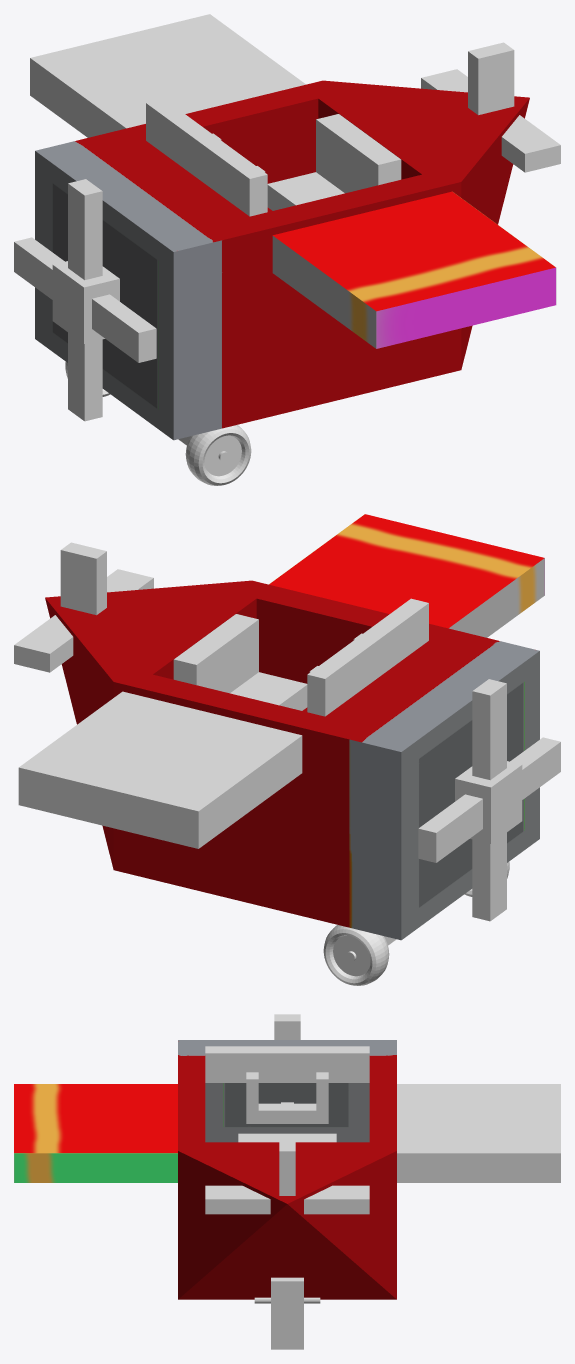
3 renders of one model, top to bottom at view 1: azimuth 30°, elevation 25°; view 2: azimuth 150°, elevation 25°; view 3: azimuth 270°, elevation 25°, orthographic. The views are drawn at different scales.
Visible parts, largest first — view 1: lodge, left wing, right wing, window, seat, blade2, blade1, pivot, side fins, top fin, wheel; view 2: lodge, right wing, left wing, window, seat, blade2, blade1, pivot, side fins, top fin, wheel.002; view 3: lodge, right wing, left wing, window, side fins, wheel.001, Cube.001, top fin, seat, blade2.
Boxes of the visible parts, <box> form: lodge: <box>35,80,529,440</box>; left wing: <box>272,191,556,348</box>; right wing: <box>30,14,305,137</box>; window: <box>146,98,267,216</box>; seat: <box>267,114,401,210</box>; blade2: <box>68,179,102,421</box>; blade1: <box>14,237,156,362</box>; pivot: <box>52,261,119,343</box>; side fins: <box>421,69,560,172</box>; top fin: <box>468,42,514,115</box>; wheel: <box>185,425,251,485</box>; lodge: <box>45,580,539,940</box>; right wing: <box>18,691,302,848</box>; left wing: <box>269,514,544,637</box>; window: <box>307,598,428,716</box>; seat: <box>173,614,307,710</box>; blade2: <box>472,679,506,921</box>; blade1: <box>418,737,560,862</box>; pivot: <box>455,761,522,843</box>; side fins: <box>14,569,153,672</box>; top fin: <box>60,542,106,615</box>; wheel.002: <box>323,925,389,985</box>; lodge: <box>178,1040,396,1299</box>; right wing: <box>397,1084,560,1182</box>; left wing: <box>14,1084,177,1182</box>; window: <box>205,1046,369,1082</box>; side fins: <box>205,1185,369,1214</box>; wheel.001: <box>246,1072,328,1123</box>; Cube.001: <box>271,1277,303,1349</box>; top fin: <box>279,1137,295,1195</box>; seat: <box>238,1133,336,1142</box>; blade2: <box>274,1014,300,1039</box>.
Size of the model in its own units: 257 by 163 by 333.
